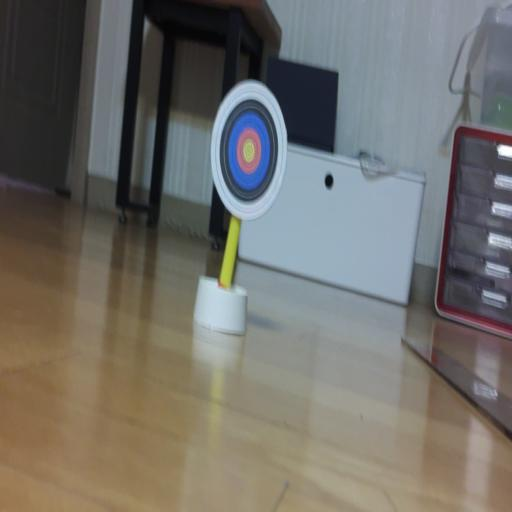target: (211, 80, 287, 220)
